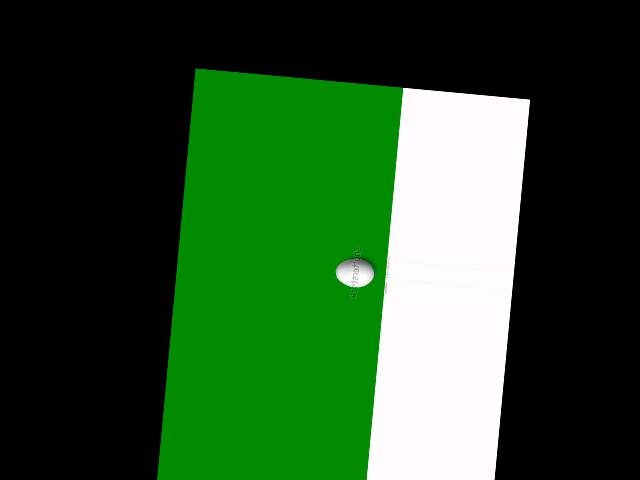egg: (334, 256, 375, 289)
